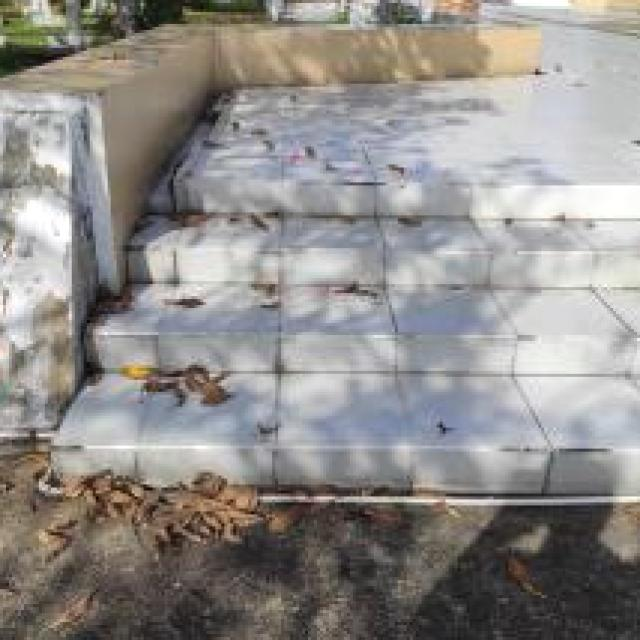upstair: (129, 150, 640, 515)
